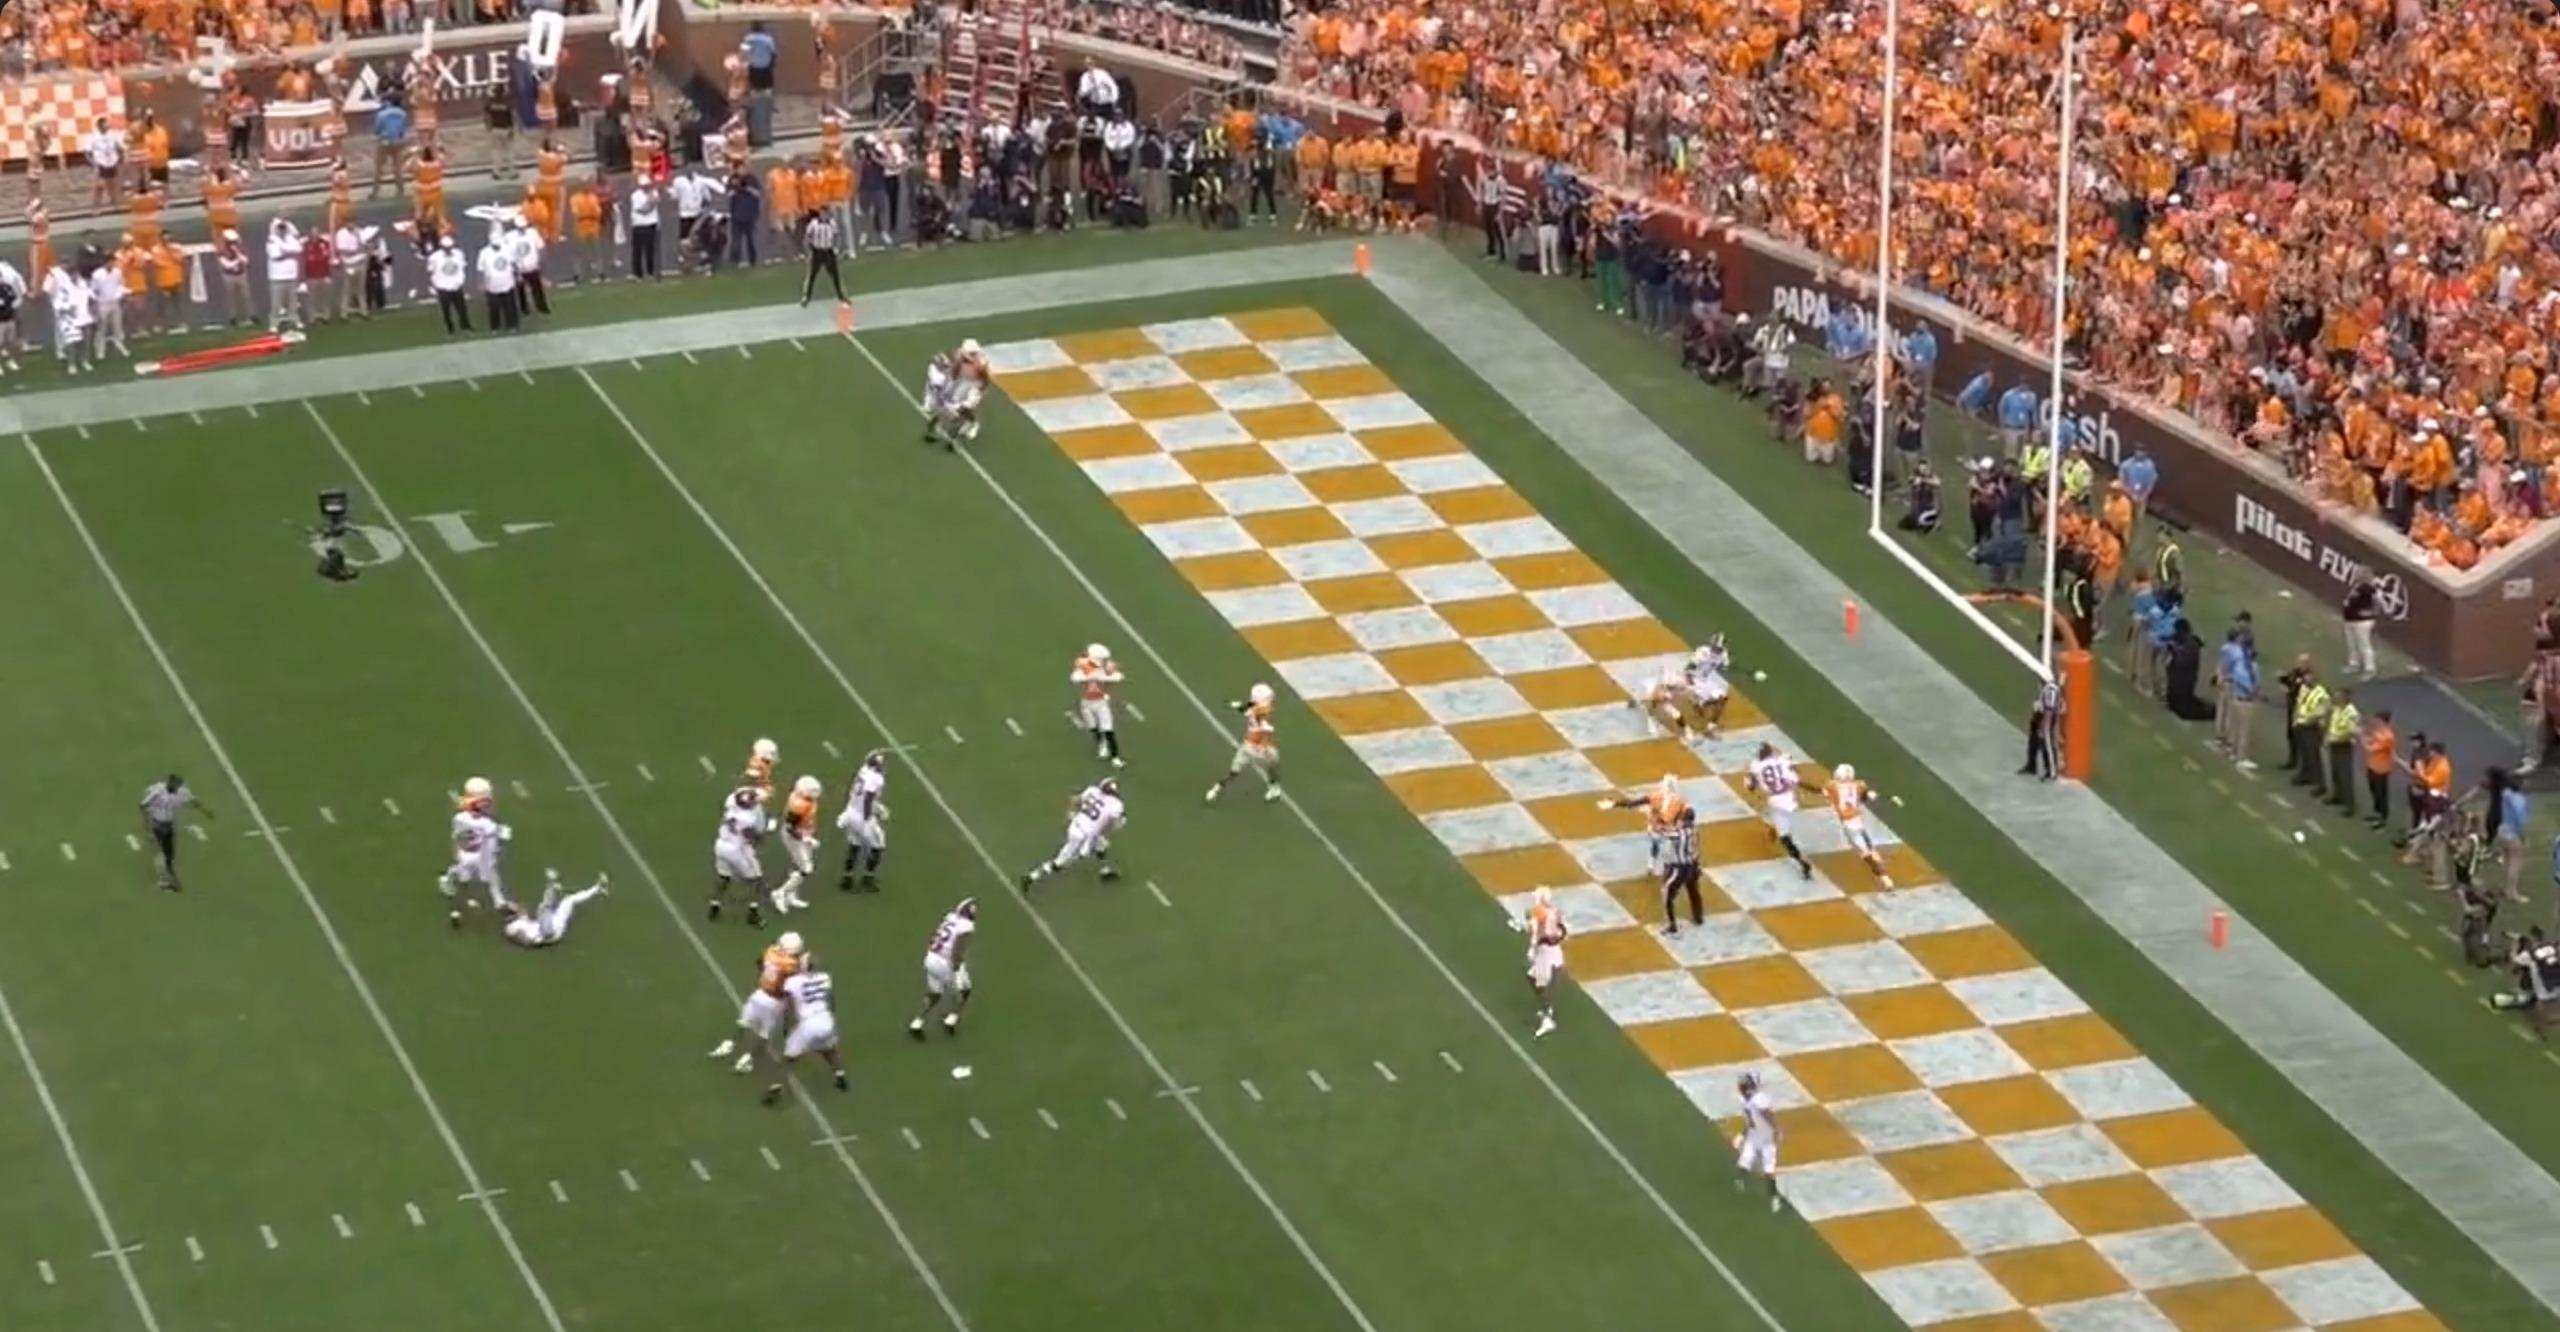player: (712, 937, 814, 1078), (1025, 774, 1134, 894), (702, 782, 785, 928), (767, 963, 851, 1104), (1207, 676, 1289, 817), (919, 896, 995, 1045), (1736, 738, 1814, 883), (1680, 628, 1778, 741), (497, 860, 616, 951), (1815, 757, 1892, 897), (1730, 1068, 1799, 1224), (444, 793, 514, 932), (825, 749, 892, 894), (1508, 888, 1568, 1047), (1076, 640, 1142, 777), (769, 775, 827, 911), (1615, 649, 1689, 744), (1629, 772, 1691, 883), (717, 736, 782, 823), (915, 353, 971, 452), (945, 332, 997, 436), (456, 772, 505, 822)
ref: (122, 774, 196, 902), (1638, 807, 1704, 948), (791, 199, 854, 308)
